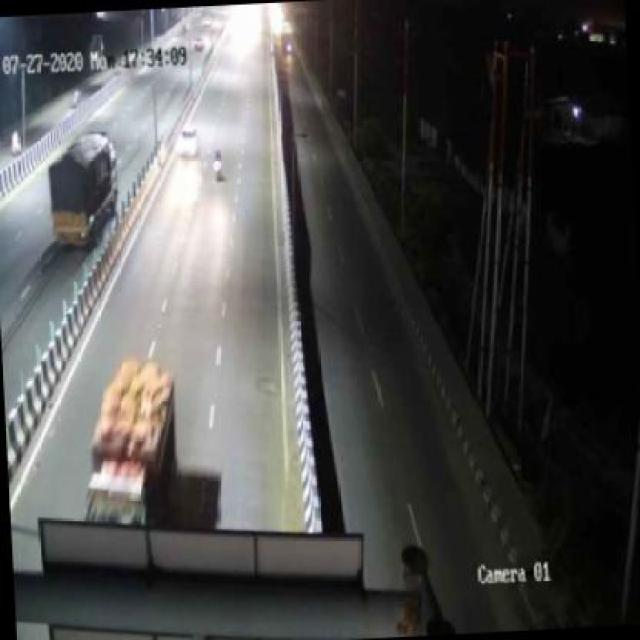car: (176, 123, 202, 163)
